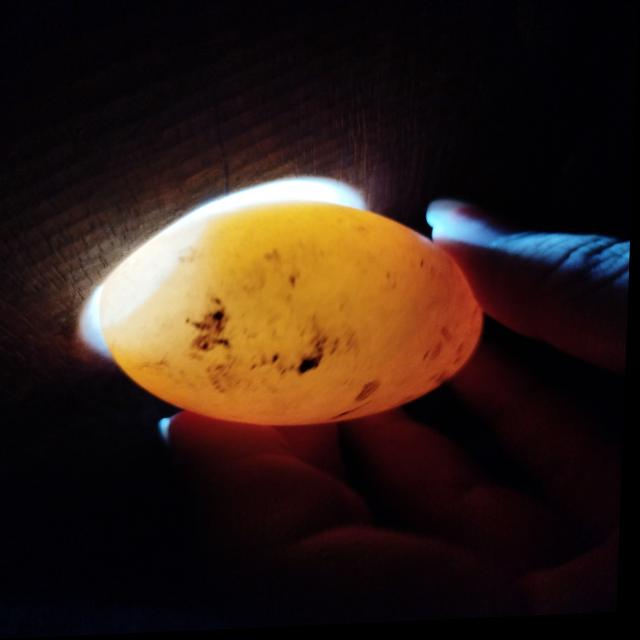Camara de Ar: (103, 225, 198, 327)
